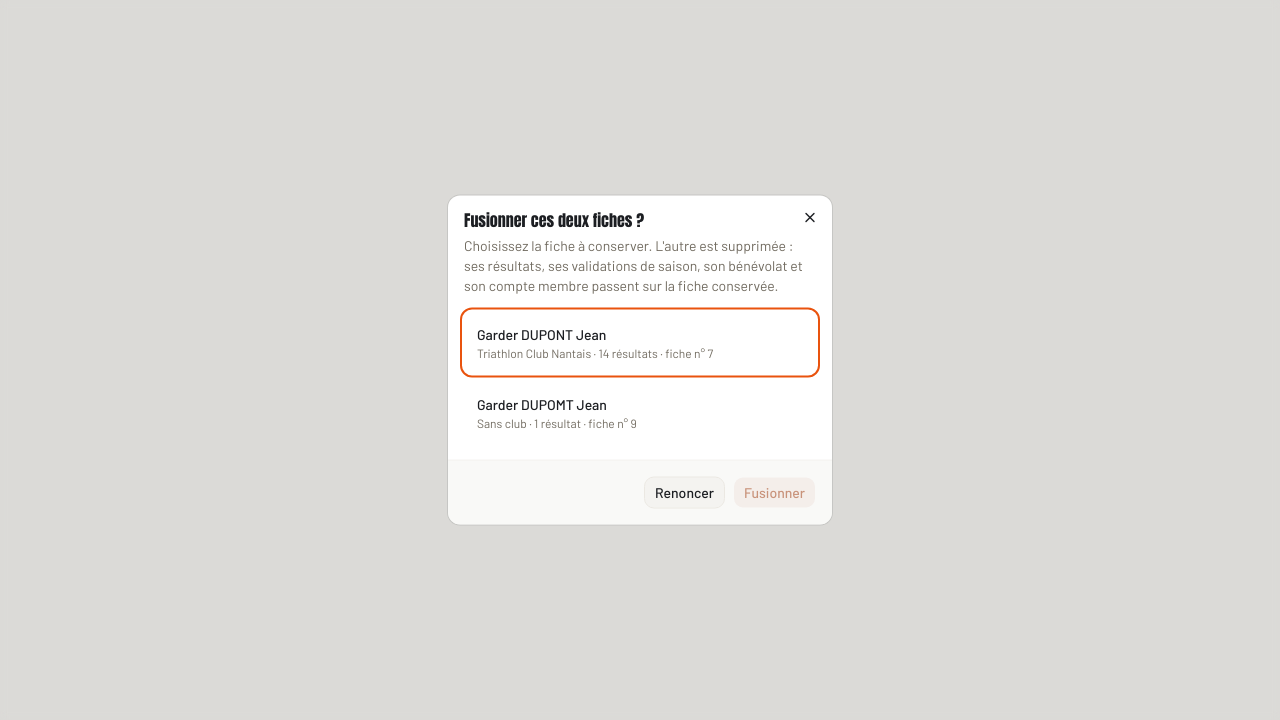
Test case: MergeAthletesDialog › une fusion refusée le dit avant le clic, bouton inerte
Click the radio button labelled "Garder DUPONT Jean": (640, 342) [464,312,816,374]
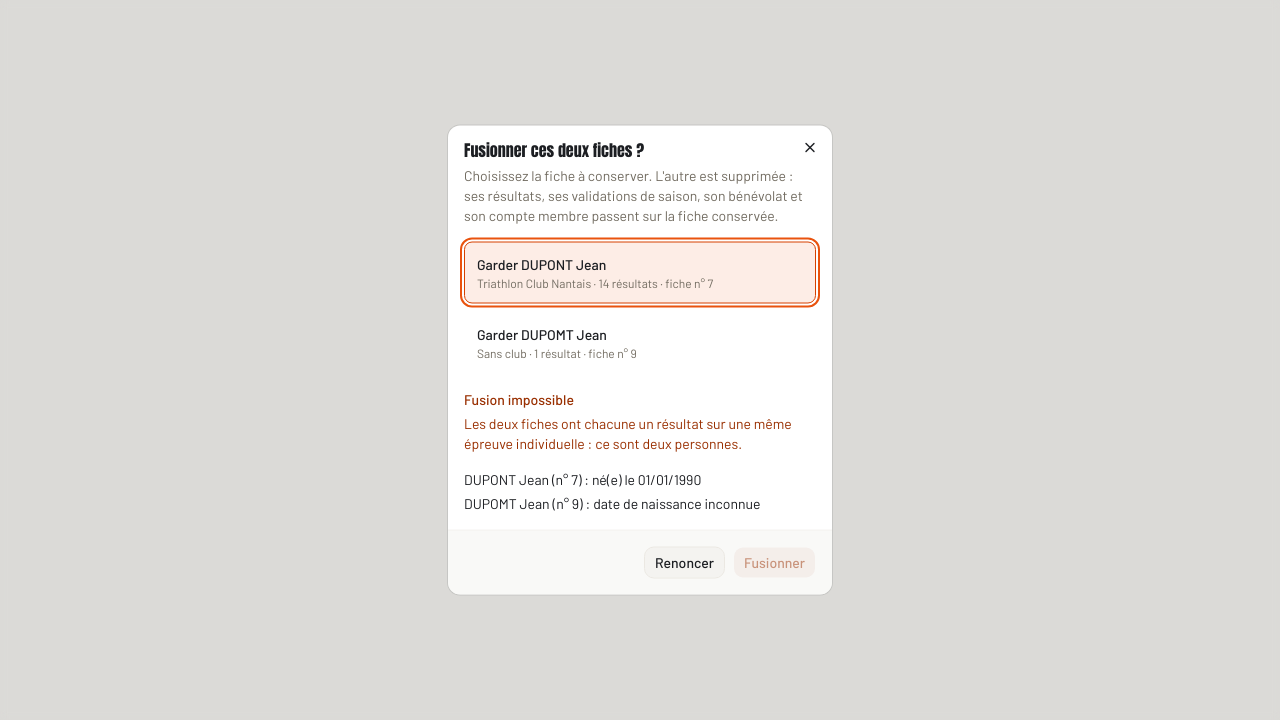
Expected: the button "Fusionner" is disabled, [733,546,816,578]
Now the message shows "Fusion impossible", box [464,390,574,408]
Now the message shows "ce sont deux personnes", box [464,414,792,452]
